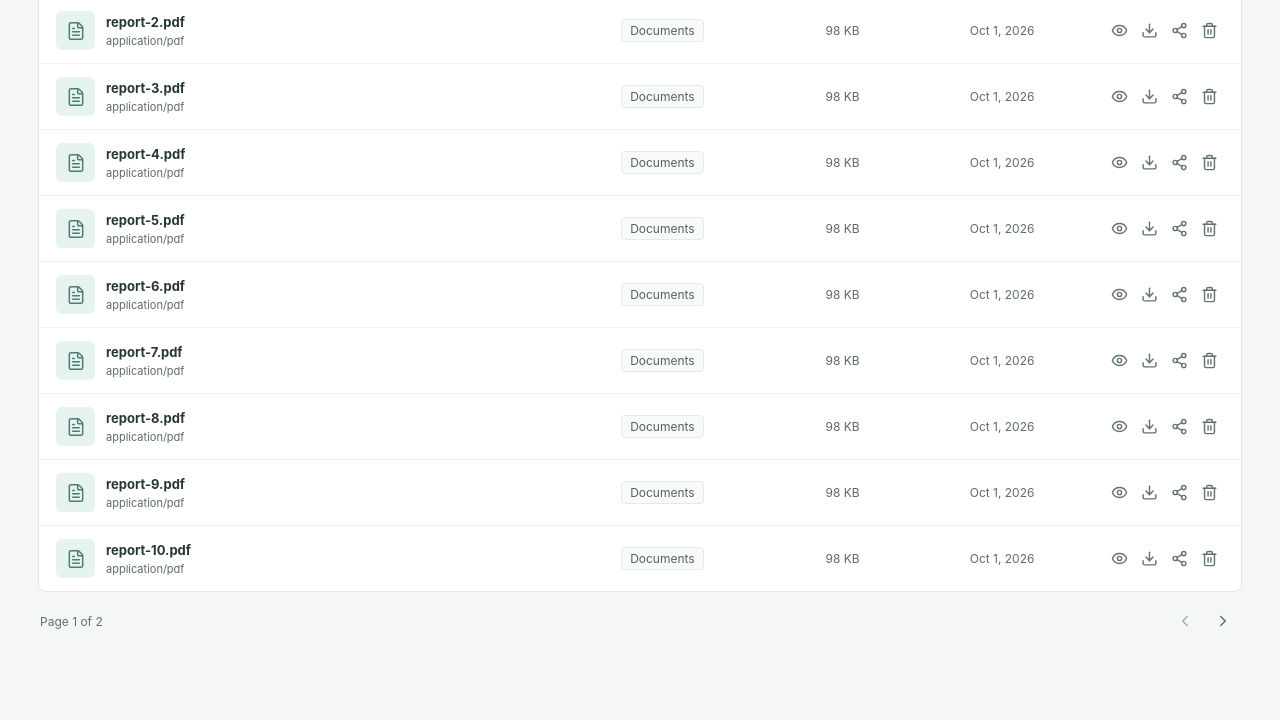
Test: file library states › steps back a page when the only file on the last page is deleted
(page scrolled)
Expected: the text "Page 1 of 2" is shown, [40,614,103,629]
Click the button named "Next page".
click(1223, 621)  # box [1206,604,1240,638]
(page scrolled)
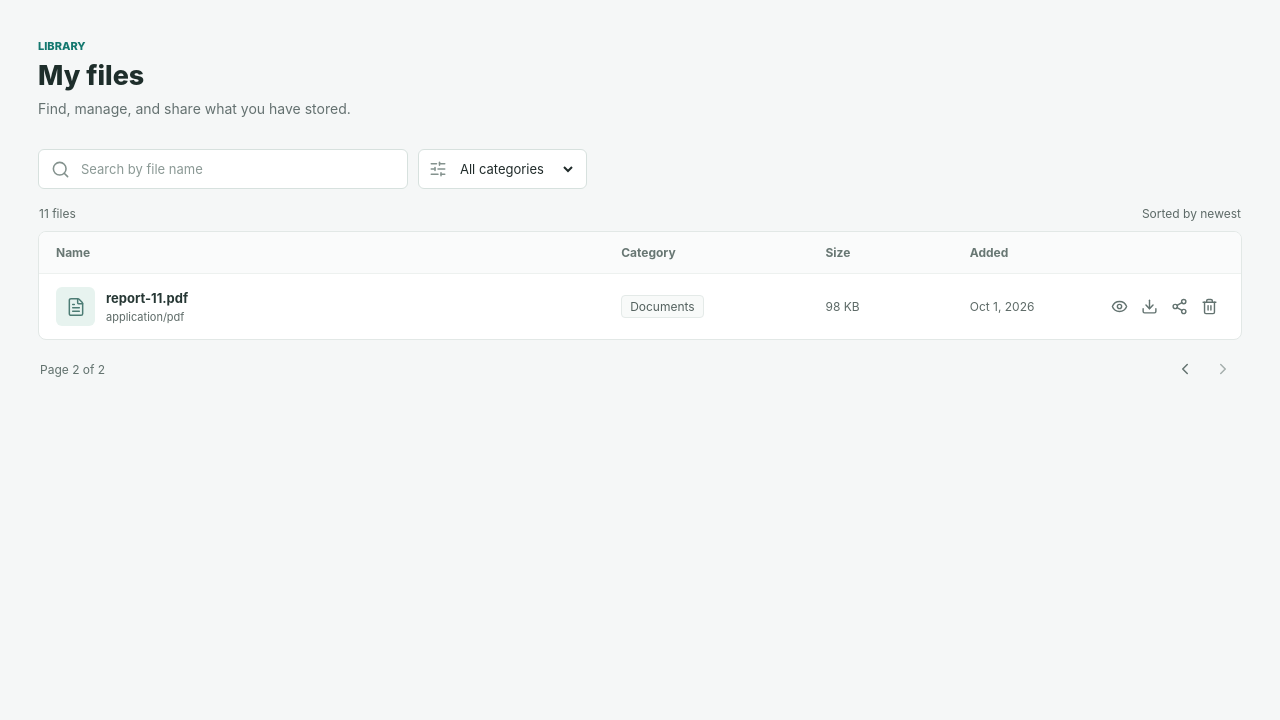
Result: the link "report-11.pdf" is shown at [106,290,188,306]
Click the button named "Delete report-11.pdf".
click(1210, 307)  # box [1195,292,1224,321]
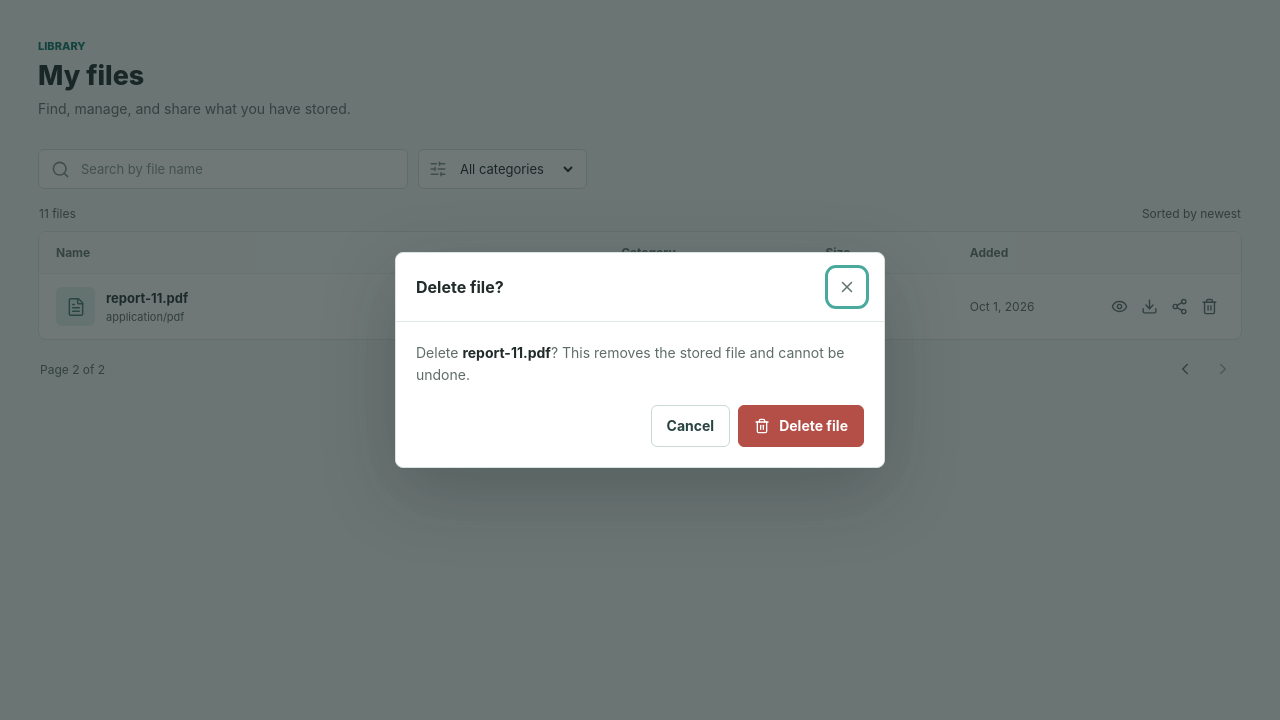
Click the button "Delete file".
click(801, 426)  # box [738,405,864,447]
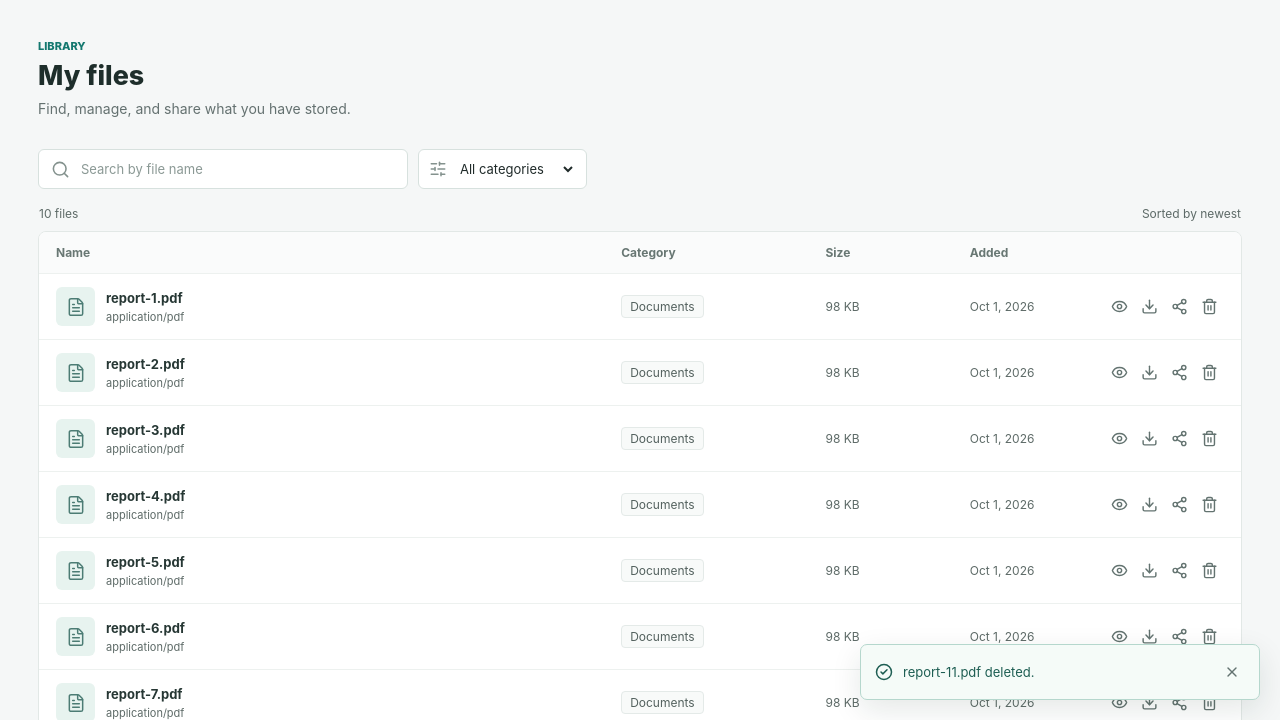
Result: the link "report-1.pdf" is shown at [106,290,184,306]
Result: the text "10 files" is shown at [39,206,78,221]
Result: the text "Page 2 of 2" is gone
